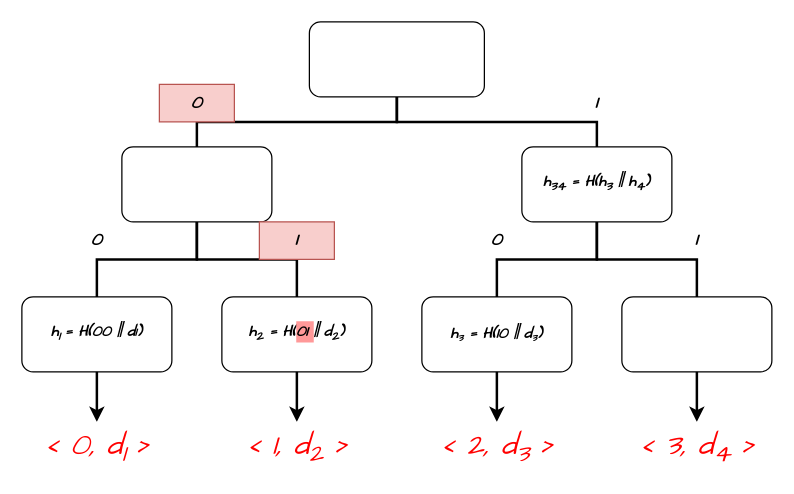
Image size: 794x494. Some labels were removed from this diagram. The box of each missing label's shape, as (x1, y1, x2, y2) in pixels:
h 12 = H(h 1 || h 2 ): (121, 146, 272, 222)
h 4 = H(11 || d 4 ): (621, 296, 772, 372)
root = H(h 12 || h 34 ): (308, 21, 484, 97)
